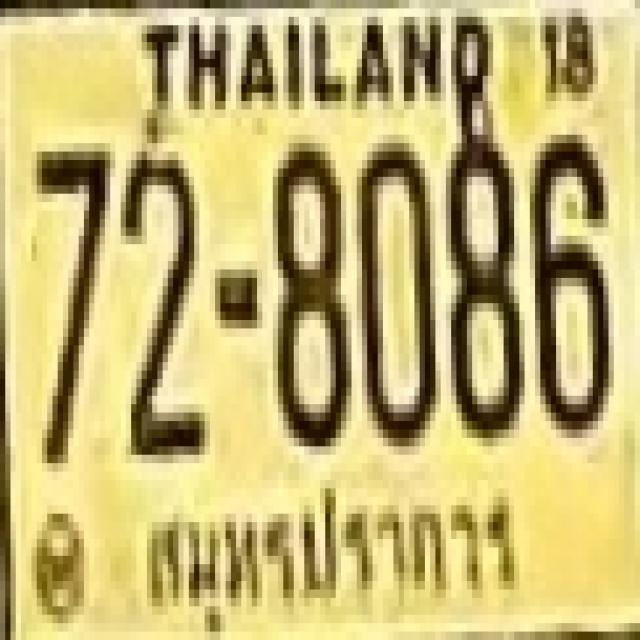0: (354, 135, 433, 438)
2: (121, 147, 199, 450)
6: (527, 126, 611, 430)
7: (31, 139, 105, 459)
8: (446, 126, 519, 430), (273, 135, 346, 438)
SPK: (141, 483, 531, 640)
